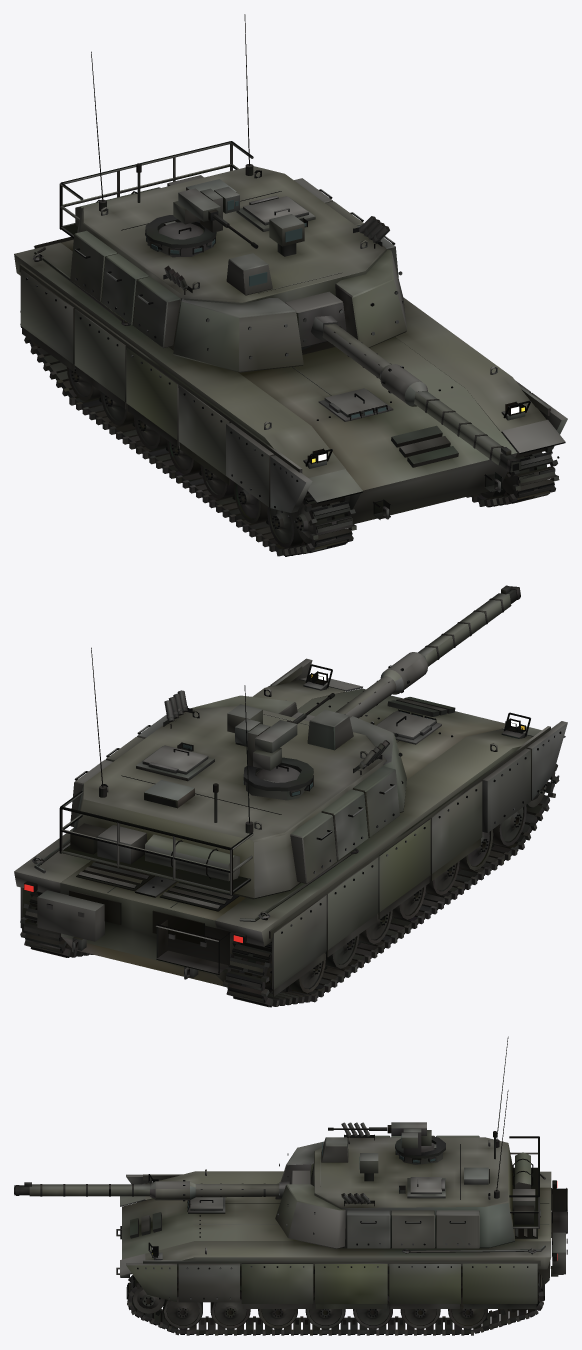
File: main-battle-tank_card.glb
3 renders of one model, top to bottom at view 1: azimuth 30°, elevation 25°; view 2: azimuth 150°, elevation 25°; view 3: azimuth 270°, elevation 25°, orthographic. The views are drawn at different scales.
Parts seen in each view (by area): view 1: body, turret_mesh, gun_mesh, weapon_station_mesh, hatch_loader_mesh, hatch_driver_mesh, road_wheel_R1_mesh, road_wheel_R2_mesh, idler_R_mesh; view 2: body, turret_mesh, gun_mesh, weapon_station_mesh, hatch_loader_mesh, hatch_driver_mesh, road_wheel_R1_mesh, road_wheel_R2_mesh, road_wheel_R7_mesh, road_wheel_R3_mesh, road_wheel_R5_mesh, road_wheel_R6_mesh (+2 smaller); view 3: body, turret_mesh, gun_mesh, weapon_station_mesh, road_wheel_L1_mesh, road_wheel_L2_mesh, road_wheel_L4_mesh, road_wheel_L5_mesh, road_wheel_L7_mesh, road_wheel_L6_mesh, road_wheel_L3_mesh, hatch_loader_mesh (+2 smaller).
Part boxes in pixels (x1,y1,x2,y2): body: (14,237,567,556); turret_mesh: (59,14,406,372); gun_mesh: (285,291,521,472); weapon_station_mesh: (145,186,258,248); hatch_loader_mesh: (243,195,308,225); hatch_driver_mesh: (324,388,386,417); road_wheel_R1_mesh: (267,507,304,548); road_wheel_R2_mesh: (233,482,267,523); idler_R_mesh: (294,501,344,543); body: (14,658,567,1007); turret_mesh: (59,647,406,899); gun_mesh: (292,585,520,721); weapon_station_mesh: (235,693,334,791); hatch_loader_mesh: (142,745,208,774); hatch_driver_mesh: (376,711,436,739); road_wheel_R1_mesh: (492,805,526,846); road_wheel_R2_mesh: (459,829,493,871); road_wheel_R7_mesh: (288,954,325,993); road_wheel_R3_mesh: (425,861,459,895); road_wheel_R5_mesh: (358,910,392,944); road_wheel_R6_mesh: (325,935,359,969); body: (116,1169,567,1335); turret_mesh: (275,1036,539,1248); gun_mesh: (14,1170,311,1201); weapon_station_mesh: (328,1122,445,1158); road_wheel_L1_mesh: (163,1283,202,1328); road_wheel_L2_mesh: (210,1285,250,1328); road_wheel_L4_mesh: (305,1286,345,1328); road_wheel_L5_mesh: (353,1289,392,1328); road_wheel_L7_mesh: (448,1284,487,1328); road_wheel_L6_mesh: (400,1309,440,1328); road_wheel_L3_mesh: (258,1309,297,1328); hatch_loader_mesh: (410,1177,444,1193).
Size of the model in its own units: 3.78 by 4.45 by 9.68.
5 materials, 1 textured.
